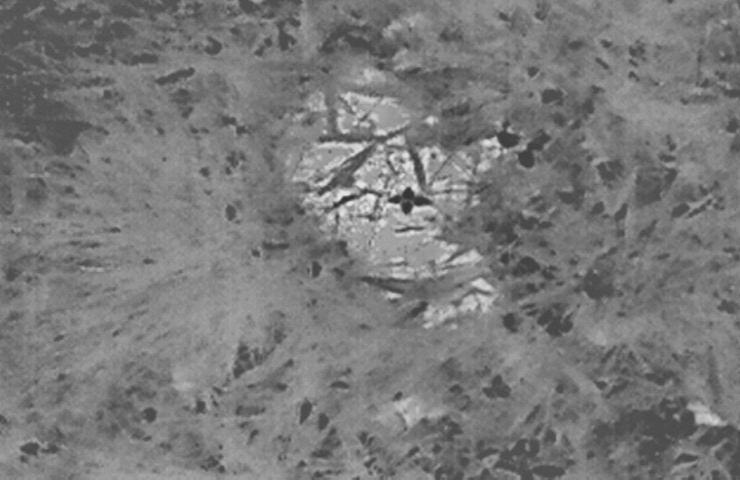landmines: (292, 67, 512, 315)
